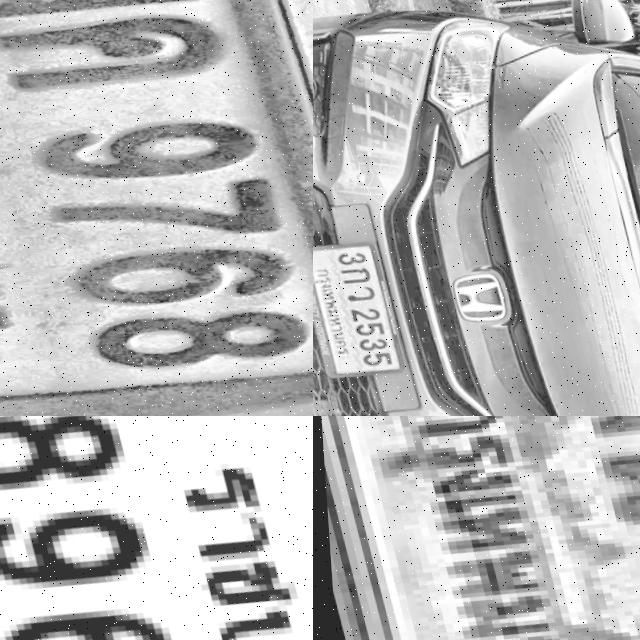license-plate: (0, 0, 313, 416), (313, 416, 640, 640), (0, 416, 313, 640), (313, 230, 407, 385)
